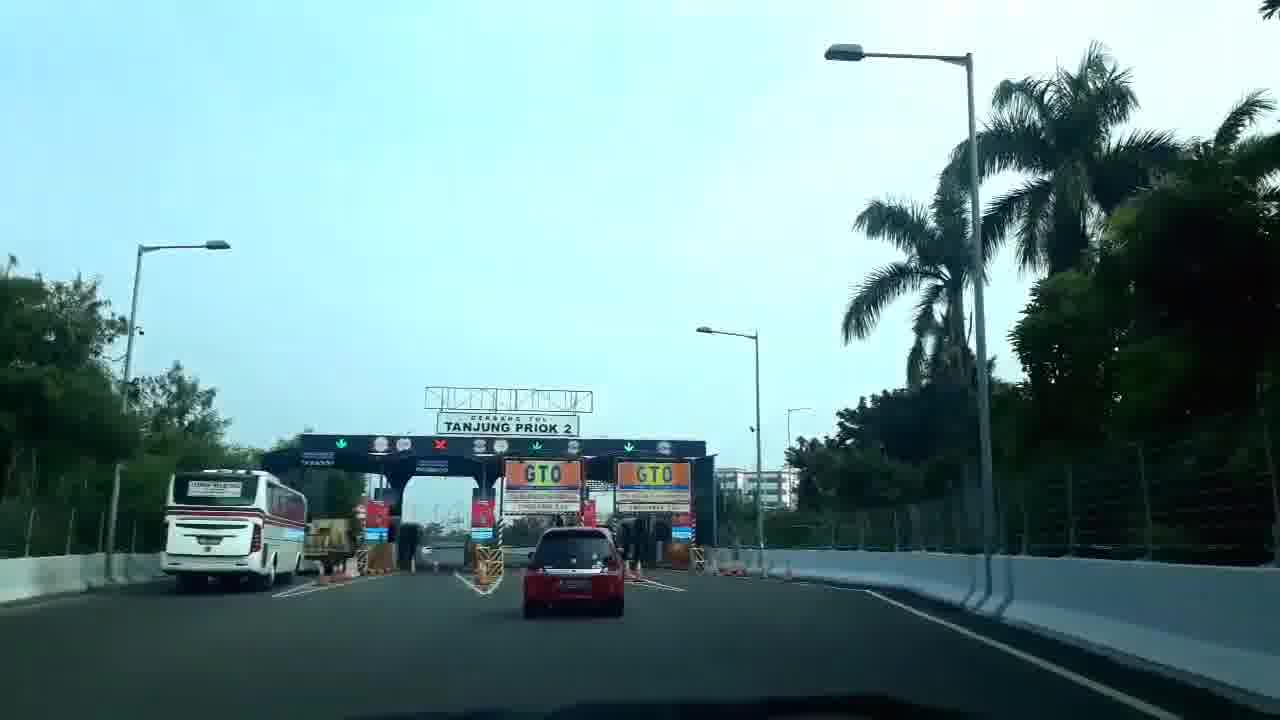plate_positive: (561, 579, 594, 591)
